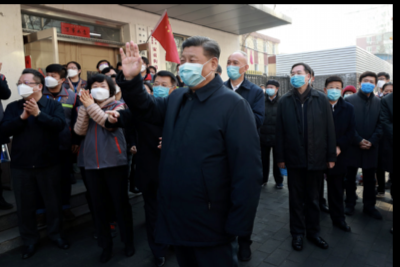with_mask: (179, 53, 212, 88), (226, 57, 243, 80), (90, 82, 109, 101), (151, 79, 170, 98), (17, 79, 35, 99), (289, 69, 306, 89), (44, 72, 59, 88), (361, 77, 375, 94), (327, 85, 341, 101), (66, 65, 78, 78), (265, 85, 277, 97), (99, 63, 110, 73), (377, 76, 385, 89)
